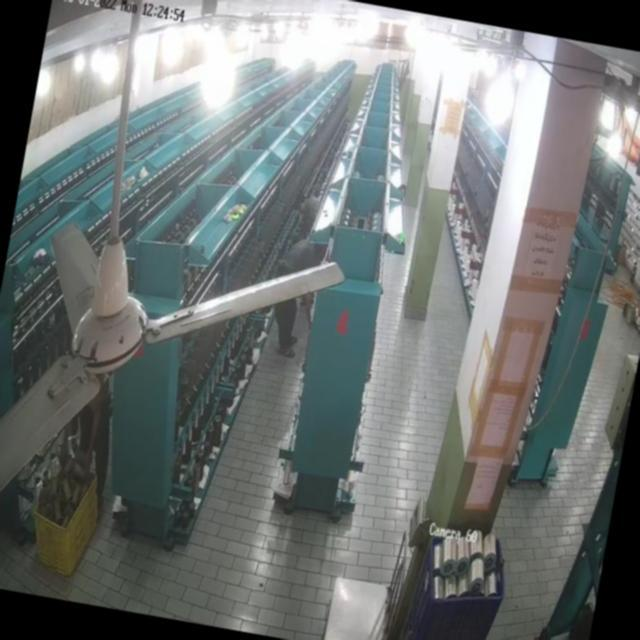person: (64, 394, 120, 496), (275, 240, 323, 280), (291, 194, 322, 235)
